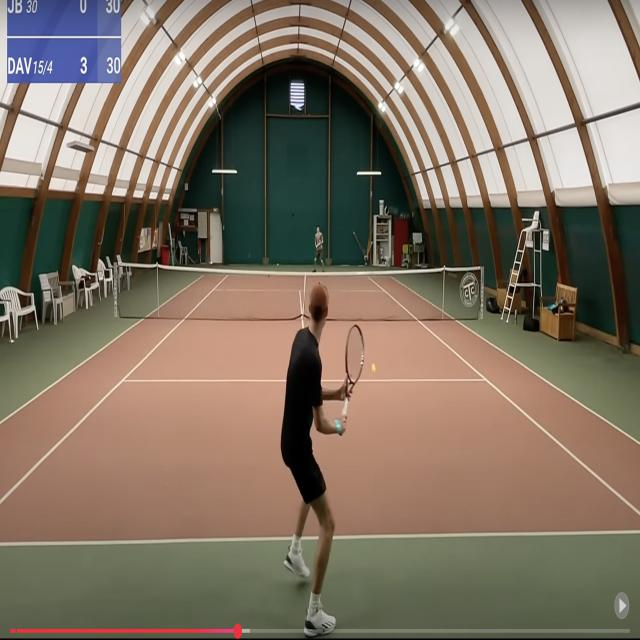ball: (371, 362, 376, 375), (277, 263, 279, 267)
